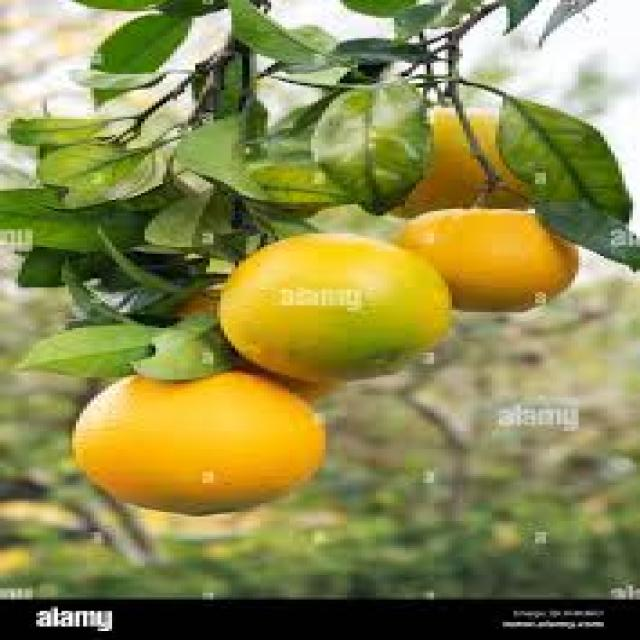orange: (232, 227, 452, 400)
